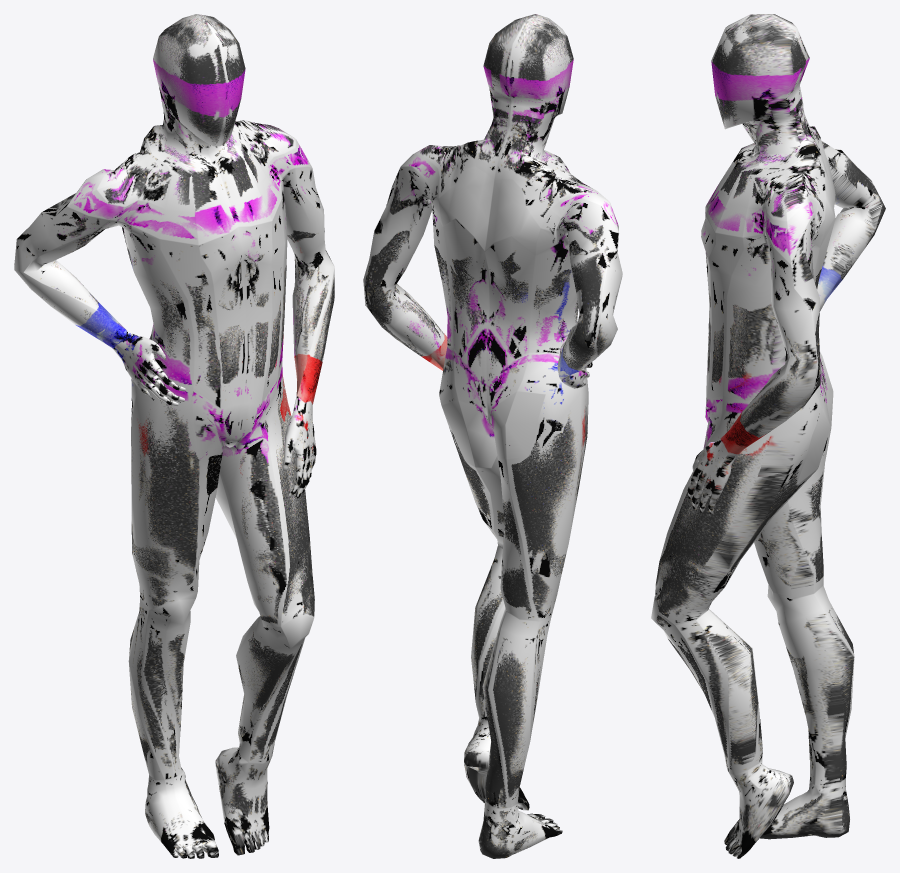
The model's file is TextrueTestModel.fbx.
3 renders of one model, left to right at view 1: azimuth 30°, elevation 25°; view 2: azimuth 150°, elevation 25°; view 3: azimuth 270°, elevation 25°, orthographic. The views are drawn at different scales.
Visible parts, largest first — view 1: ArmatureTest; view 2: ArmatureTest; view 3: ArmatureTest.
Part boxes in pixels (x1,y1,x2,y2): ArmatureTest: (14,14,334,858); ArmatureTest: (363,14,622,858); ArmatureTest: (651,14,885,858).
Bounding box in the file's own units: 65.64 × 182 × 47.37.
Materials: 1 (1 with a texture image).
